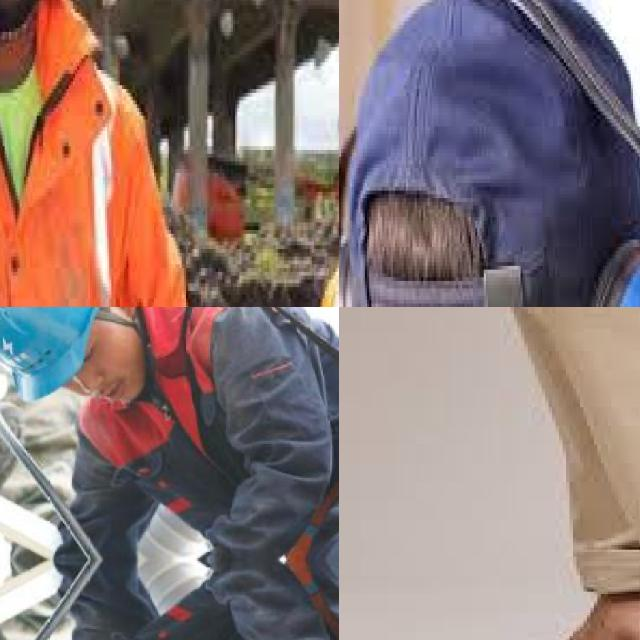Ear-protection: (339, 91, 640, 307)
No_Ear-Protection: (112, 307, 139, 325)
face_nomask: (71, 346, 144, 406)
head_helmet: (0, 307, 98, 399)
person: (0, 0, 213, 307)
